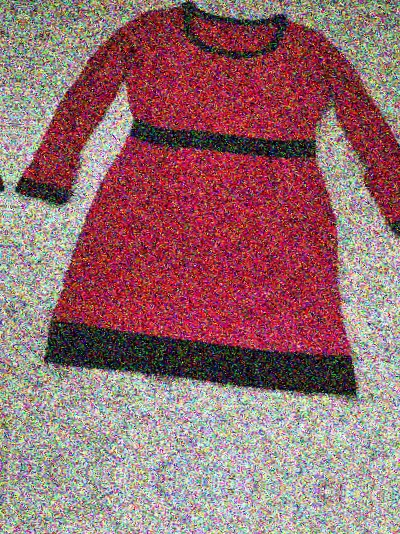Dress: (0, 0, 400, 421), (0, 0, 23, 388)
